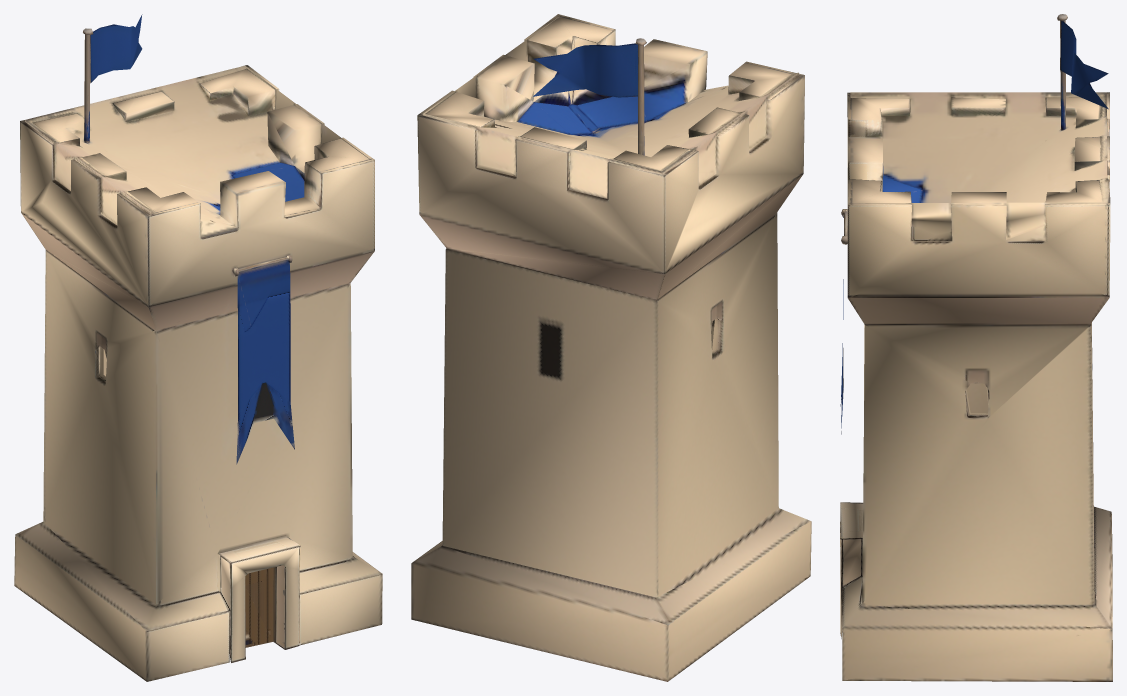
File: meshy-b-550.glb
3 views of the same model, side by side, from view 1: azimuth 30°, elevation 25°; view 2: azimuth 150°, elevation 25°; view 3: azimuth 270°, elevation 25° (orthographic). The views are drawn at different scales.
Bounding box in the file's own units: 0.4412 × 0.9996 × 0.431.
1 material, 1 textured.
